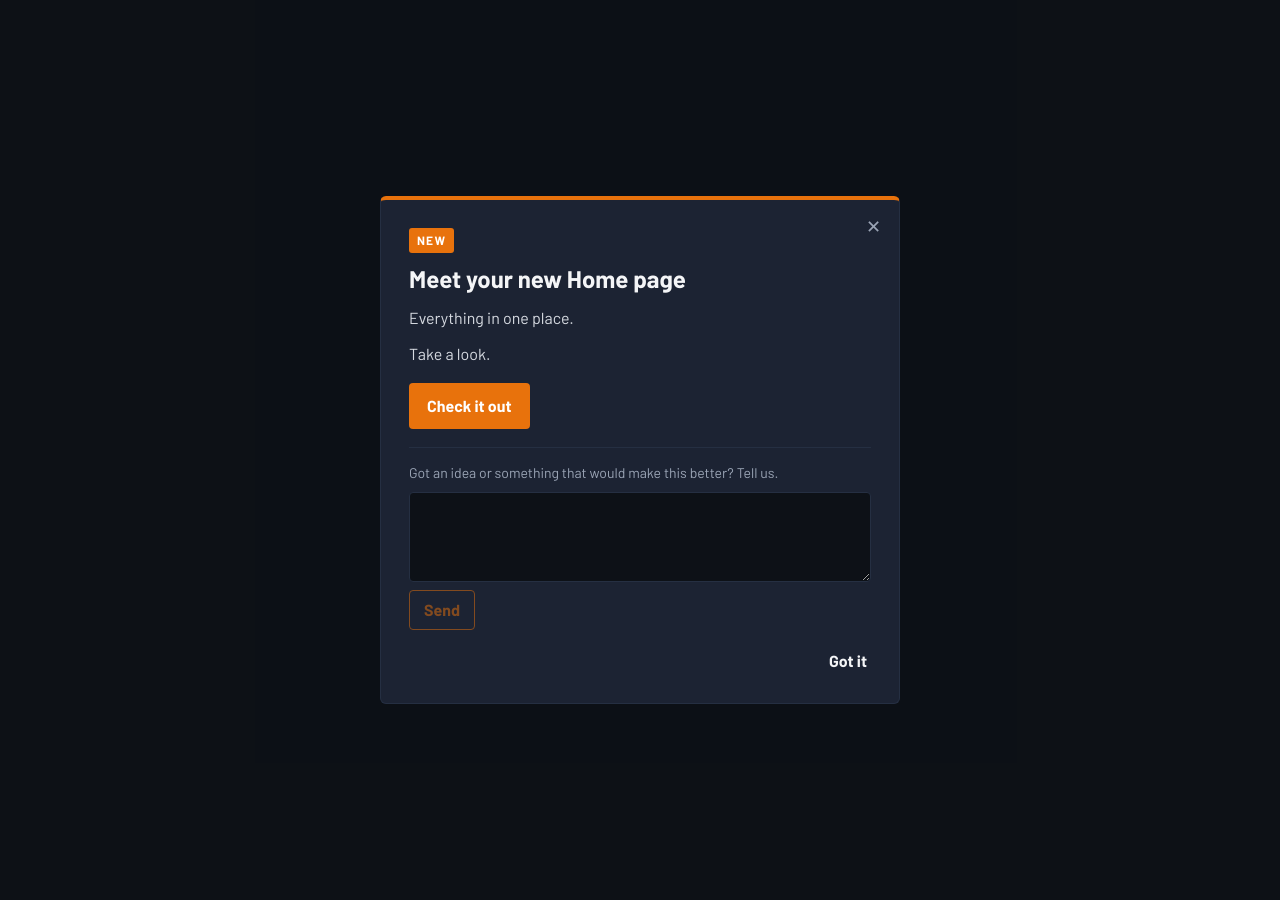
Test: AnnouncementModal › feedback: Send is disabled when empty, posts the text, then thanks
Expected: the button "Send" is disabled, [409, 590, 475, 630]
Type "Add dark mode" into the text box at (640, 537), box [409, 492, 871, 582]
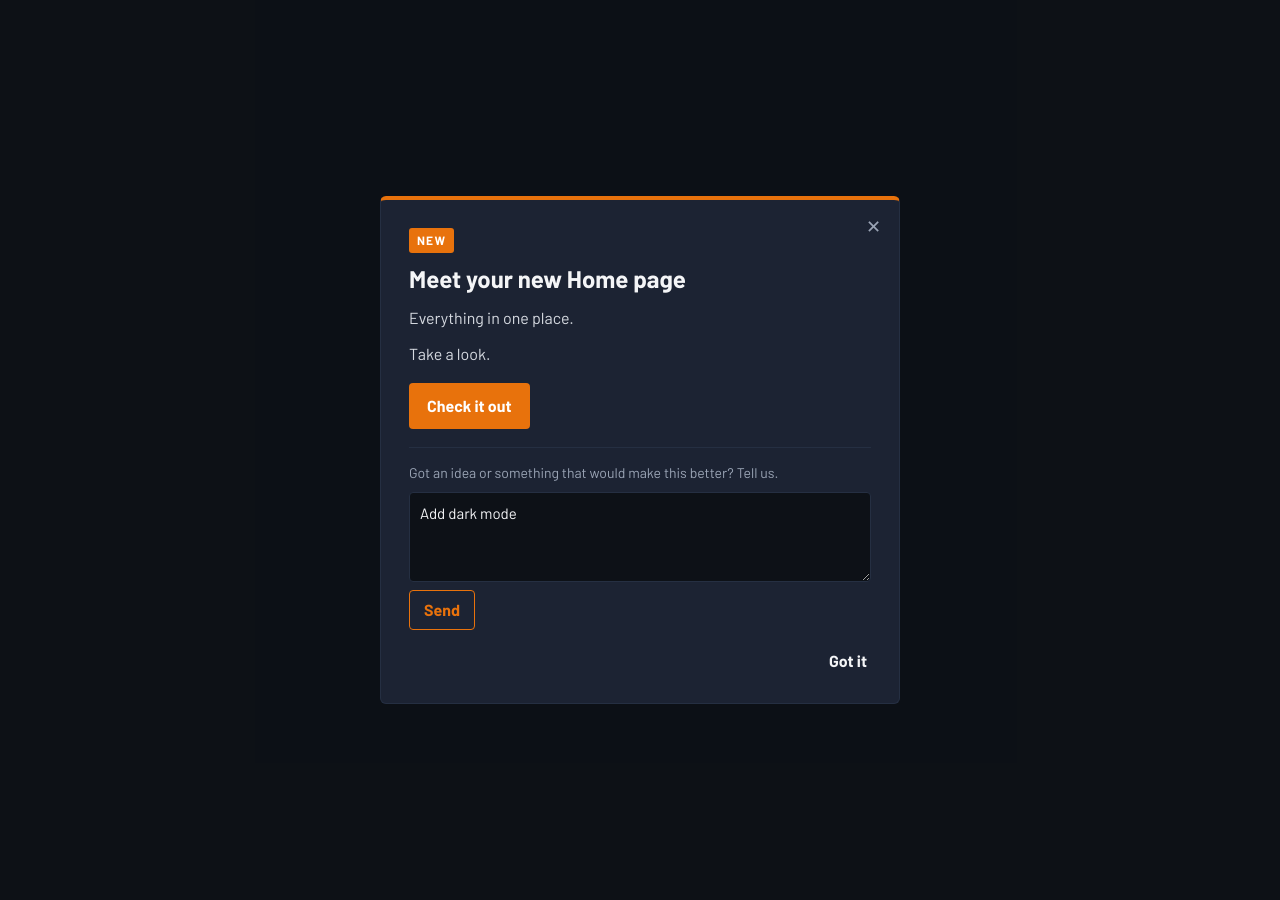
Click the button "Send" at (442, 610), box [409, 590, 475, 630]
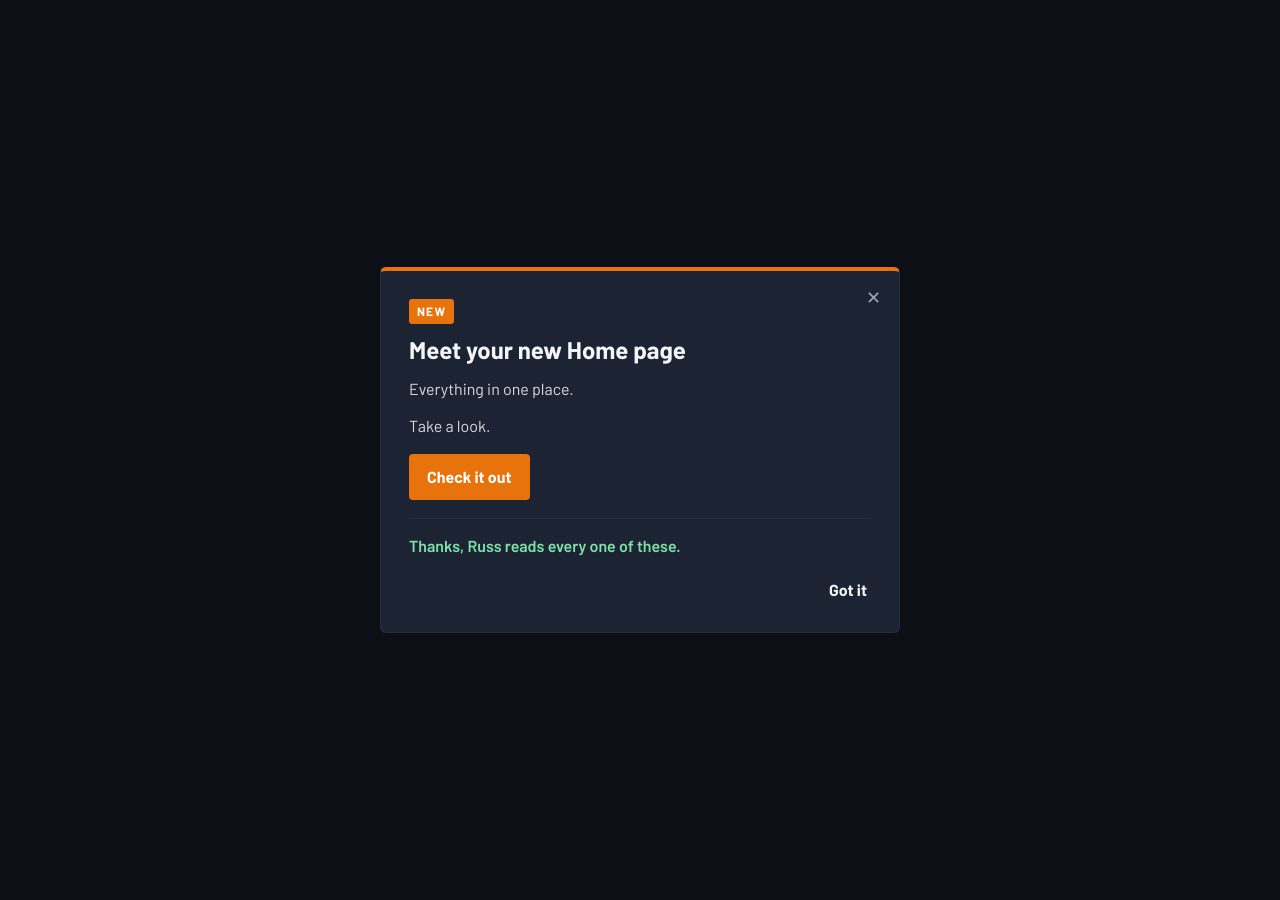
Expected: the text "Thanks, Russ reads every one of these." is shown, [409, 536, 681, 555]
